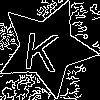K: (22, 23, 62, 72)
